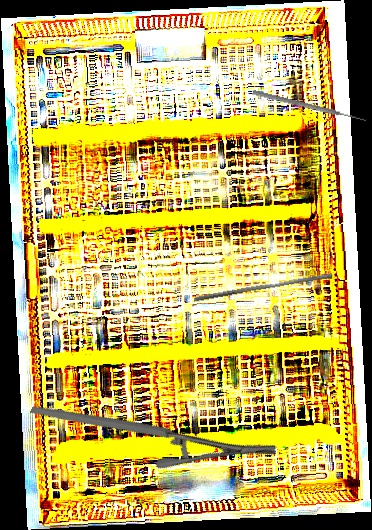Needle Holder: (29, 331, 280, 528)
Pusher: (192, 267, 334, 308), (251, 88, 369, 125)
